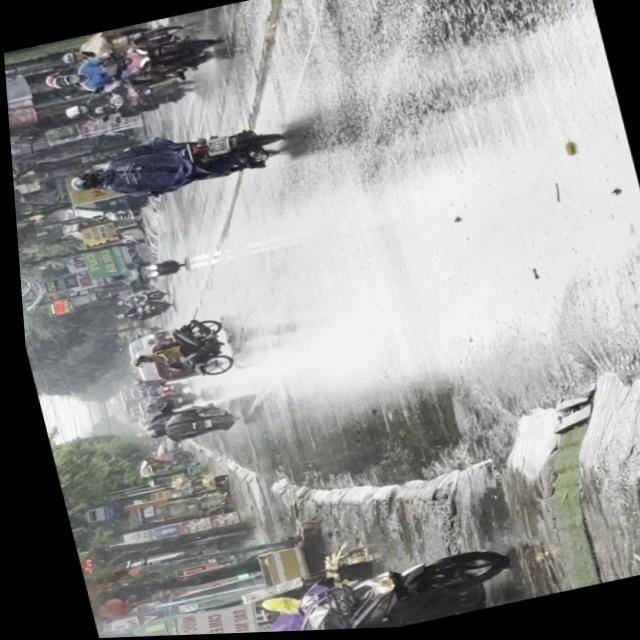helmet: (63, 167, 102, 192), (42, 68, 78, 90), (60, 101, 84, 118)
licenseplate: (155, 537, 518, 636), (56, 110, 298, 212), (36, 24, 229, 104), (55, 68, 202, 130)
nohelmet: (203, 135, 226, 155)
